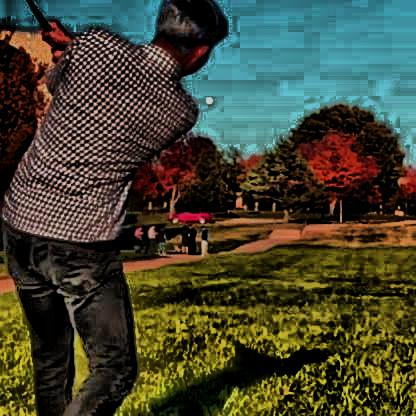golfball: (201, 92, 213, 106)
